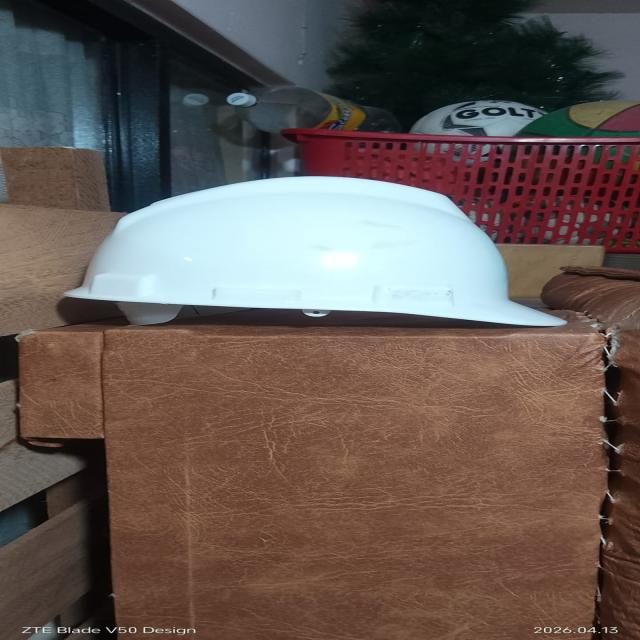casco: (65, 170, 583, 341)
